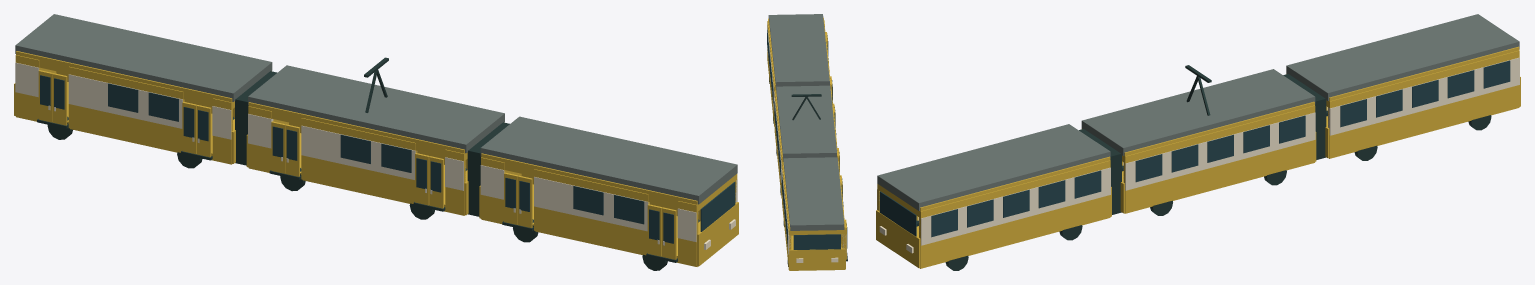
File: tram-yellow.glb
The picture shows the model from 3 angles, left to right: view 1: azimuth 30°, elevation 25°; view 2: azimuth 150°, elevation 25°; view 3: azimuth 270°, elevation 25°; orthographic projection. The views are drawn at different scales.
Visible parts, largest first — view 1: Жёлтый экспресс, Правая раздвижная дверь (×12); view 2: Жёлтый экспресс, Правая раздвижная дверь; view 3: Жёлтый экспресс.
Part boxes in pixels (bbox=[...]): Жёлтый экспресс: bbox=[14, 14, 738, 270]; Правая раздвижная дверь (×12): bbox=[38, 70, 676, 259]; Жёлтый экспресс: bbox=[767, 14, 847, 270]; Правая раздвижная дверь: bbox=[845, 224, 847, 259]; Жёлтый экспресс: bbox=[876, 14, 1520, 270].
Size of the model in its own units: 18.03 by 5 by 25.8.
